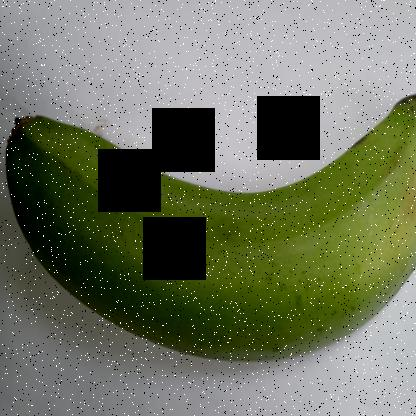freshunripe: (1, 83, 415, 384)
